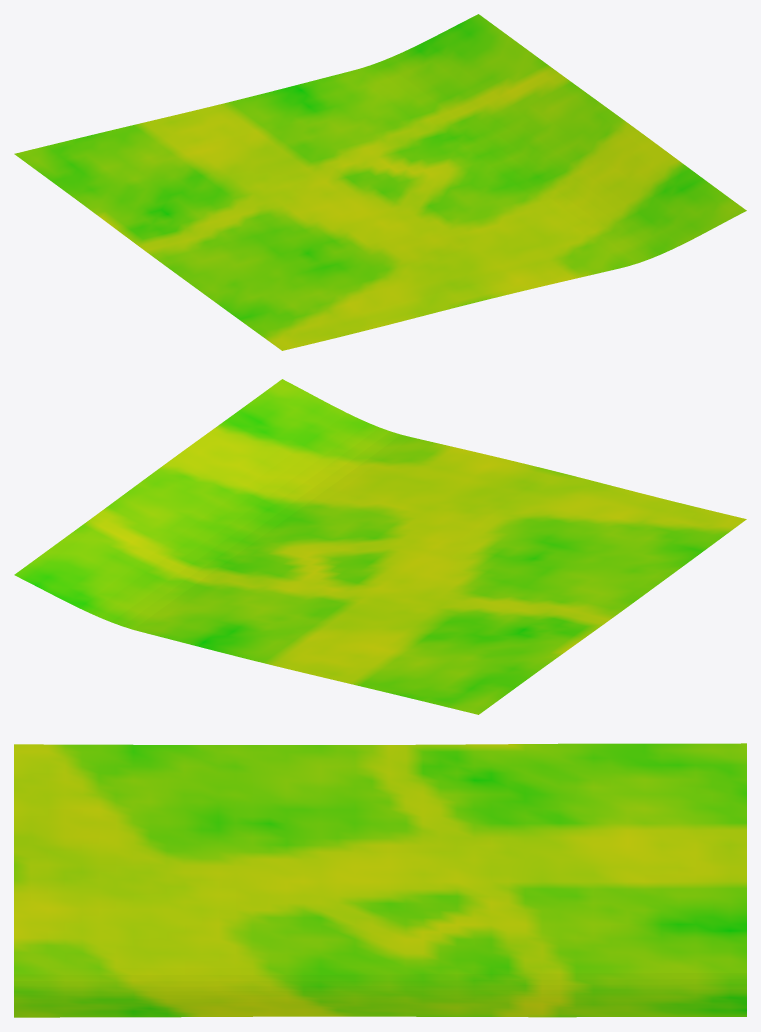
File: terrain_2_1.glb
3 renders of one model, top to bottom at view 1: azimuth 30°, elevation 25°; view 2: azimuth 150°, elevation 25°; view 3: azimuth 270°, elevation 25°, orthographic. The views are drawn at different scales.
Parts seen in each view (by area): view 1: terrain_2_1; view 2: terrain_2_1; view 3: terrain_2_1.
Boxes of the visible parts, <box> form: terrain_2_1: <box>14,14,746,350</box>; terrain_2_1: <box>14,379,746,714</box>; terrain_2_1: <box>14,743,746,1017</box>.
Size of the model in its own units: 85 by 4.89 by 85.
